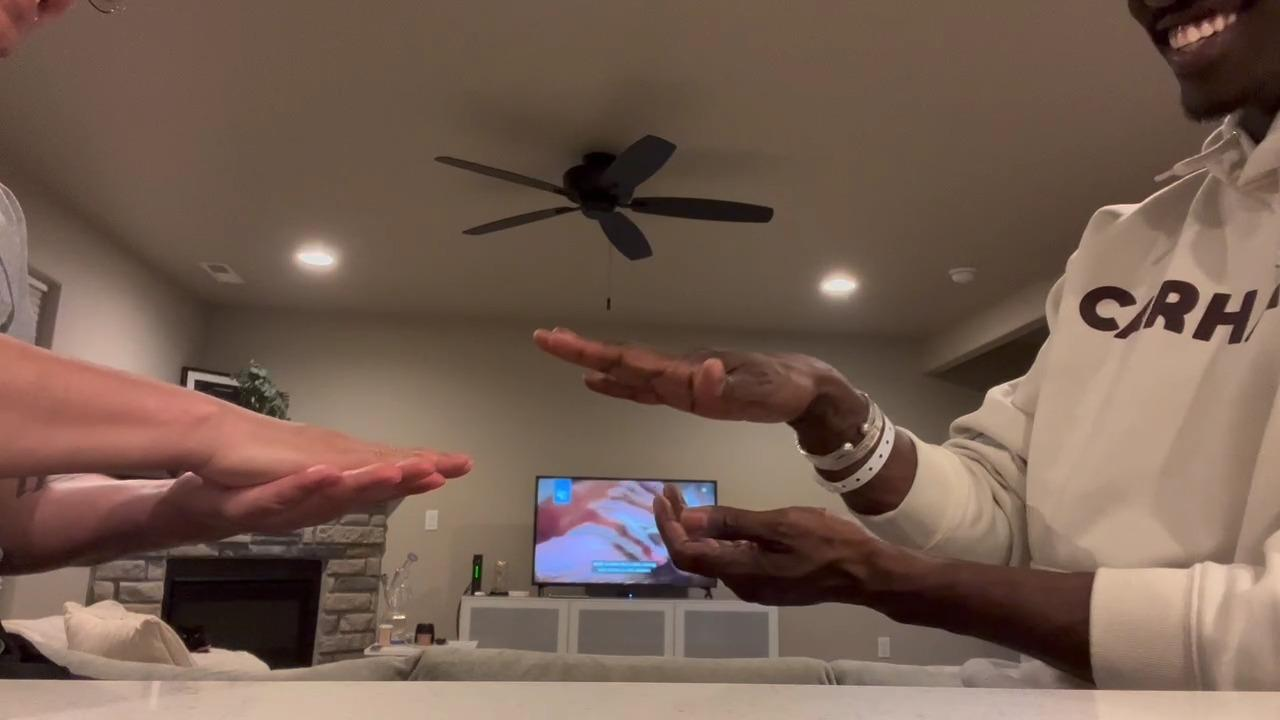Paper: (535, 327, 822, 425), (210, 403, 437, 482)
